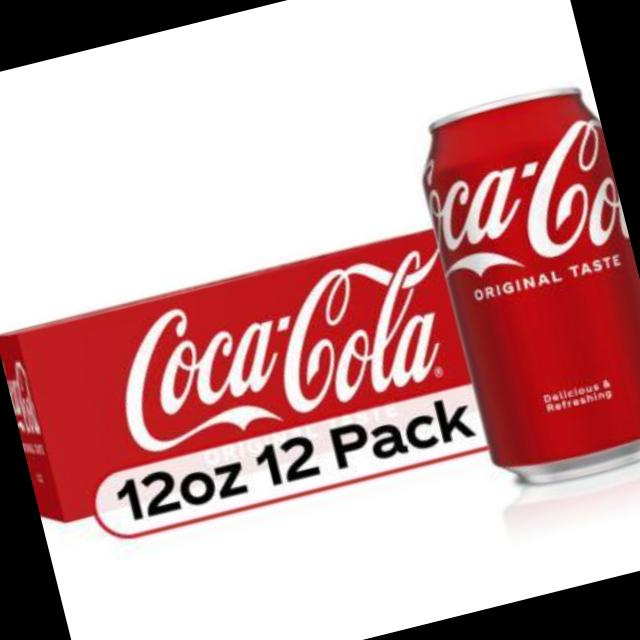metal: (420, 86, 640, 478)
